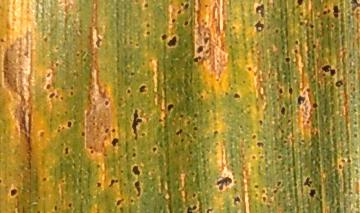tarspot: (131, 108, 143, 142), (215, 176, 232, 192), (255, 3, 267, 19), (133, 179, 142, 199), (130, 164, 142, 177), (166, 35, 178, 48), (254, 19, 265, 33), (320, 63, 332, 74), (349, 1, 360, 13), (296, 94, 306, 106), (333, 79, 344, 89), (194, 44, 204, 55), (186, 204, 198, 213), (303, 175, 312, 187), (332, 4, 339, 19), (115, 198, 125, 208), (138, 83, 147, 94), (108, 179, 119, 188), (9, 187, 18, 197), (192, 55, 202, 64), (63, 145, 71, 156), (175, 128, 184, 137), (233, 196, 241, 206), (166, 103, 174, 113), (159, 33, 169, 41), (202, 35, 210, 45), (255, 141, 265, 149), (308, 188, 316, 198), (44, 82, 52, 92), (211, 129, 219, 139), (279, 105, 286, 116), (111, 138, 119, 147), (233, 91, 241, 100), (103, 126, 111, 135), (44, 71, 53, 79), (329, 67, 336, 77), (310, 101, 318, 109), (48, 92, 56, 100), (352, 132, 360, 140), (151, 145, 158, 154), (103, 99, 110, 108), (95, 180, 102, 189), (52, 204, 59, 213), (66, 120, 72, 130), (284, 56, 291, 64), (128, 198, 136, 205), (250, 134, 258, 141), (41, 176, 49, 183), (308, 22, 315, 30), (297, 11, 305, 18), (41, 35, 48, 43), (191, 125, 199, 132), (177, 112, 184, 120), (252, 183, 260, 190), (246, 65, 252, 74), (125, 88, 132, 95), (145, 30, 152, 37), (130, 151, 137, 158), (298, 20, 305, 27), (273, 187, 280, 194), (337, 163, 344, 170), (296, 1, 304, 7), (287, 87, 293, 95), (205, 207, 213, 213), (183, 19, 189, 27), (170, 17, 176, 25), (143, 1, 149, 9), (257, 118, 263, 126), (276, 153, 282, 161), (88, 149, 96, 155), (352, 119, 358, 127), (278, 87, 284, 94), (184, 2, 190, 9), (80, 130, 86, 137), (67, 202, 73, 209), (118, 169, 125, 175), (311, 43, 317, 50), (58, 95, 65, 101), (305, 86, 311, 93), (276, 180, 282, 187), (176, 7, 181, 15), (352, 106, 357, 114), (140, 131, 146, 137), (110, 127, 116, 133), (293, 48, 299, 54), (286, 118, 292, 124), (321, 9, 326, 16), (145, 22, 150, 28), (294, 39, 299, 45), (274, 28, 279, 34), (325, 130, 330, 136), (69, 91, 74, 96), (34, 210, 41, 213), (1, 178, 3, 185)
